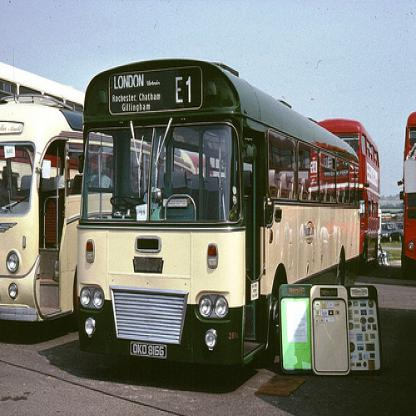bus: (77, 58, 360, 367), (1, 102, 197, 326), (310, 118, 382, 271), (400, 111, 416, 270)
car: (381, 223, 403, 243)
